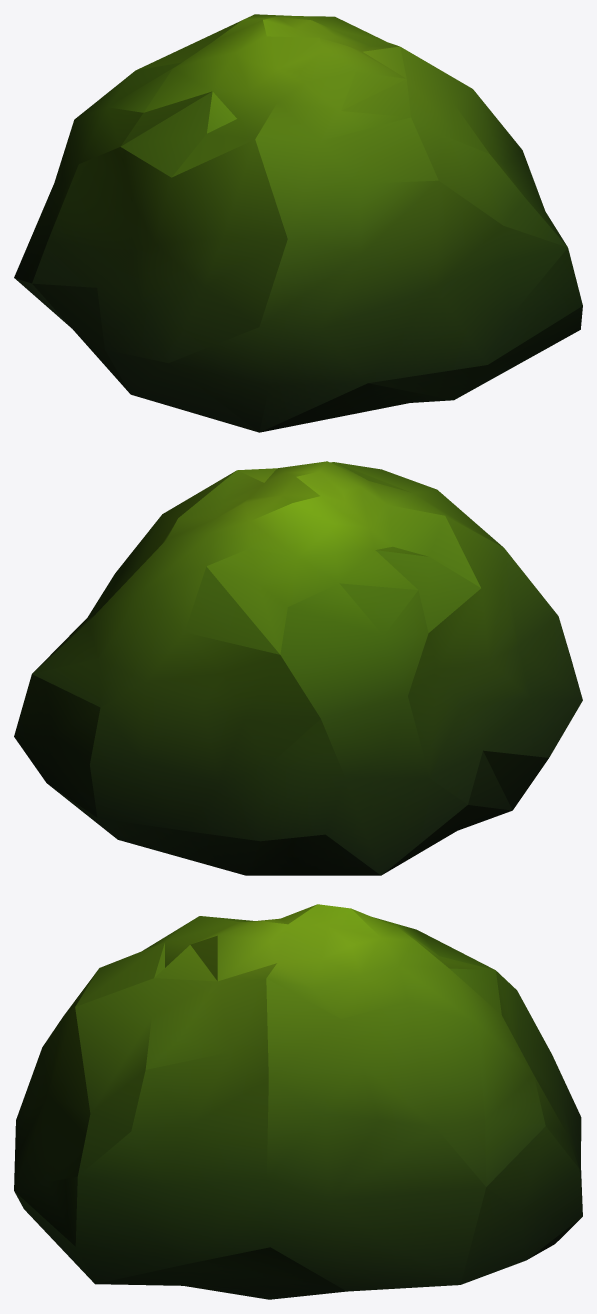
The model's file is House_Big_Leave_01_03.fbx.
3 renders of one model, top to bottom at view 1: azimuth 30°, elevation 25°; view 2: azimuth 150°, elevation 25°; view 3: azimuth 270°, elevation 25°, orthographic. The views are drawn at different scales.
Visible parts, largest first — view 1: House_Big_Leave_01_03; view 2: House_Big_Leave_01_03; view 3: House_Big_Leave_01_03.
Boxes of the visible parts, x1,y1,x2,y2 form: House_Big_Leave_01_03: (14,14,582,432); House_Big_Leave_01_03: (14,461,582,875); House_Big_Leave_01_03: (14,904,582,1299).
Bounding box in the file's own units: 3.55 × 2.28 × 3.8.
